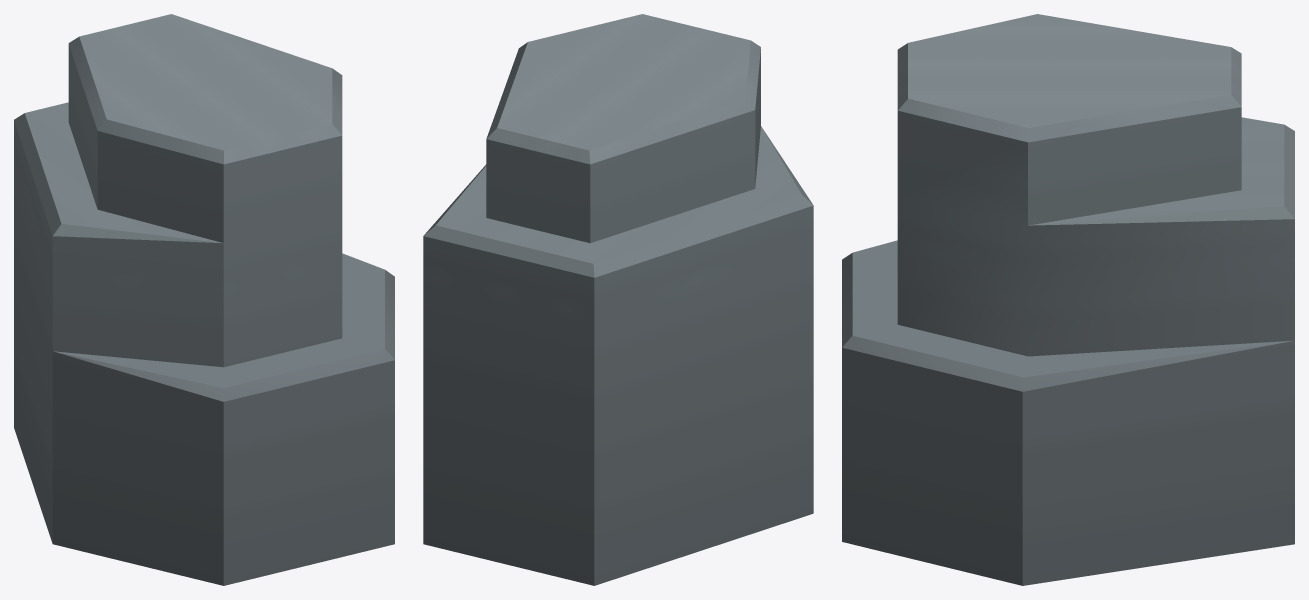
File: forest-nature-rock-1-e-color1.gltf
3 renders of one model, left to right at view 1: azimuth 30°, elevation 25°; view 2: azimuth 150°, elevation 25°; view 3: azimuth 270°, elevation 25°, orthographic. The views are drawn at different scales.
Parts seen in each view (by area): view 1: Rock_1_E_Color1; view 2: Rock_1_E_Color1; view 3: Rock_1_E_Color1.
Part boxes in pixels (left/top/right/bottom): Rock_1_E_Color1: left=14, top=14, right=394, bottom=585; Rock_1_E_Color1: left=423, top=14, right=813, bottom=585; Rock_1_E_Color1: left=842, top=14, right=1294, bottom=585.
Bounding box in the file's own units: 1 × 1.13 × 1.09.
Materials: 1 (1 with a texture image).
